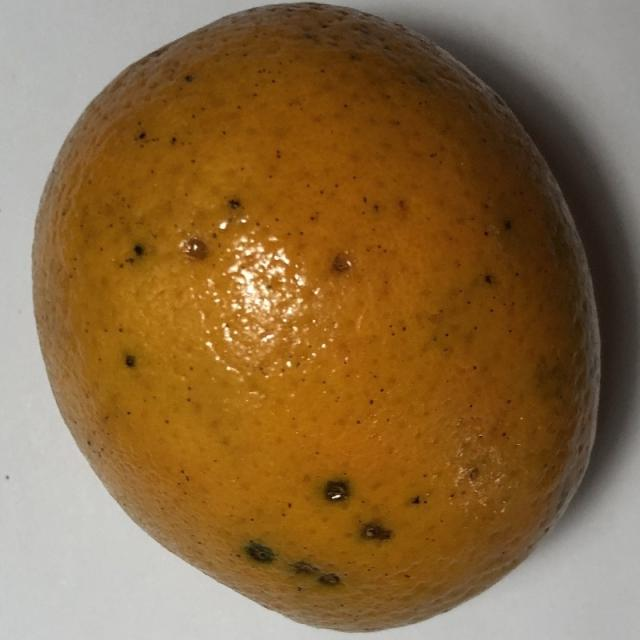blackspot: (18, 12, 618, 635)
